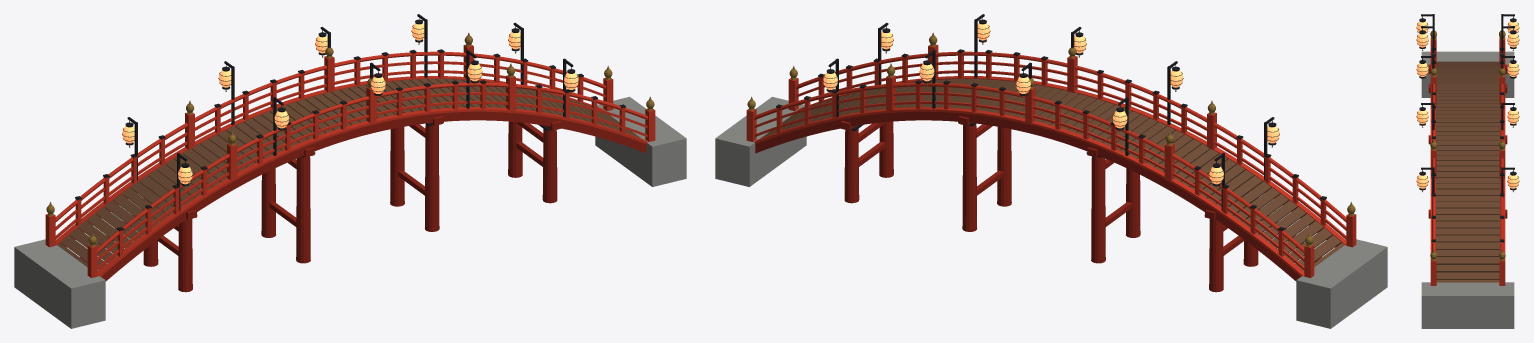
The model's file is bridge.glb.
3 renders of one model, left to right at view 1: azimuth 30°, elevation 25°; view 2: azimuth 150°, elevation 25°; view 3: azimuth 270°, elevation 25°, orthographic. The views are drawn at different scales.
Visible parts, largest first — view 1: Bridge_red, Bridge_redDark, Bridge_deck, Bridge_stone, Bridge_black, Bridge_paper, Bridge_bronze; view 2: Bridge_red, Bridge_redDark, Bridge_deck, Bridge_stone, Bridge_black, Bridge_paper, Bridge_bronze; view 3: Bridge_deck, Bridge_stone, Bridge_red, Bridge_black, Bridge_paper, Bridge_bronze, Bridge_redDark.
Boxes of the visible parts, x1,y1,x2,y2 form: Bridge_red: (45,44,655,277); Bridge_redDark: (61,111,646,292); Bridge_deck: (57,79,641,271); Bridge_stone: (14,96,686,328); Bridge_black: (75,14,625,230); Bridge_paper: (122,23,578,184); Bridge_bronze: (46,32,654,246); Bridge_red: (746,44,1356,277); Bridge_redDark: (755,111,1340,292); Bridge_deck: (760,79,1344,271); Bridge_stone: (715,96,1387,328); Bridge_black: (776,14,1326,230); Bridge_paper: (823,23,1279,184); Bridge_bronze: (747,32,1355,246); Bridge_deck: (1436,61,1499,282); Bridge_stone: (1421,51,1514,328); Bridge_red: (1430,37,1505,285); Bridge_black: (1416,14,1519,241); Bridge_paper: (1416,21,1519,188); Bridge_bronze: (1422,30,1513,260); Bridge_redDark: (1428,64,1507,218).
Bounding box in the file's own units: 28.7 × 8.25 × 5.13.
